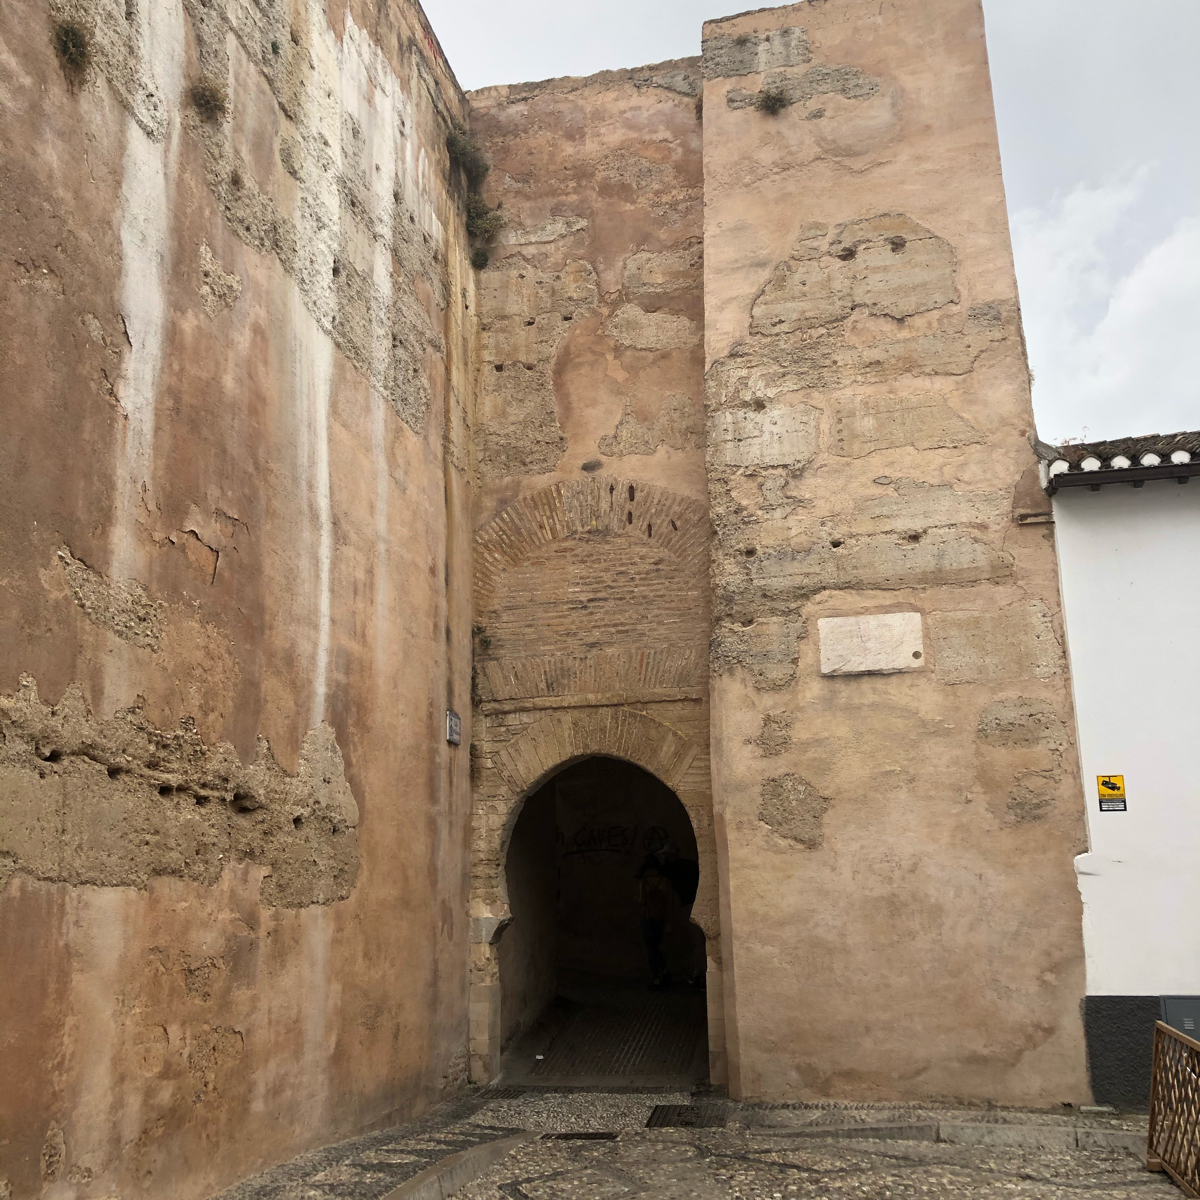arco-herradura: (471, 729, 720, 963)
